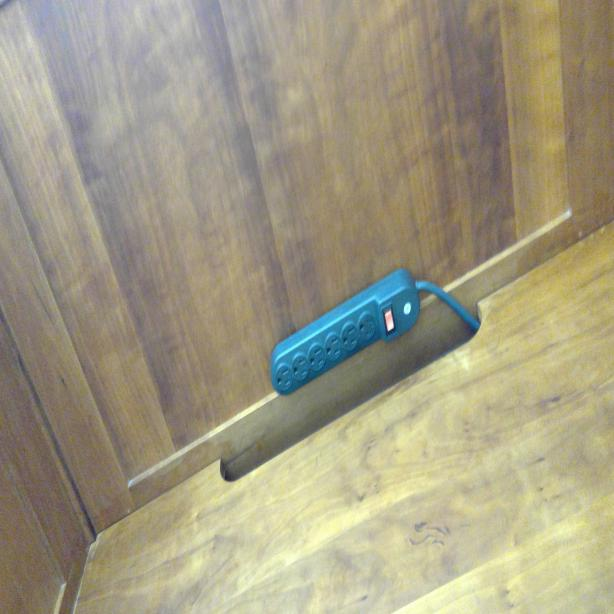typeb: (291, 354, 309, 384), (274, 363, 294, 390), (339, 323, 358, 350), (359, 314, 376, 341), (324, 334, 342, 358), (309, 347, 324, 370)
